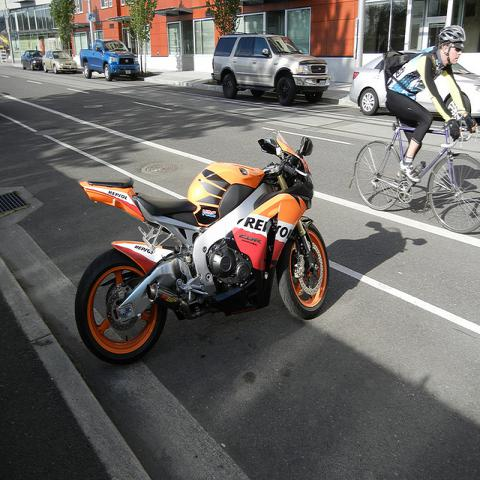car: (43, 48, 79, 76), (21, 50, 44, 71)
motorcycle: (76, 130, 329, 360)
truck: (211, 34, 330, 108), (79, 38, 141, 80)
